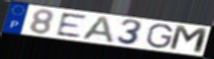3: (116, 19, 145, 46)
8: (28, 8, 56, 35)
A: (79, 15, 116, 45)
E: (55, 12, 89, 39)
G: (145, 23, 175, 49)
M: (167, 24, 210, 56)
